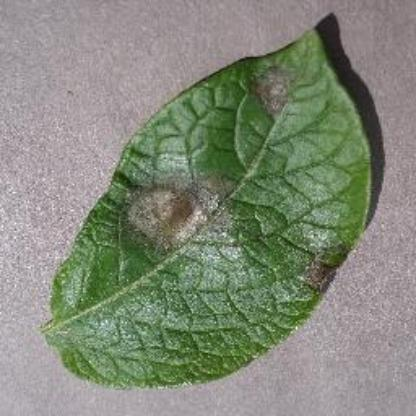Late-Blight: (41, 24, 375, 411)
